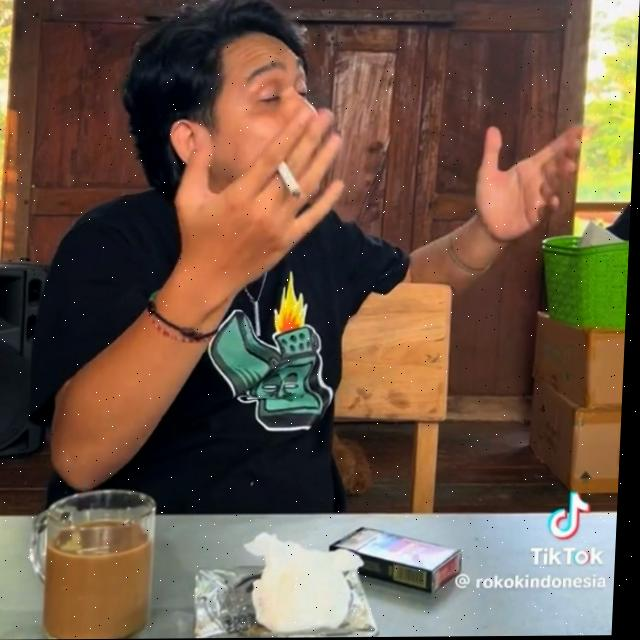cigarette: (278, 161, 305, 201)
